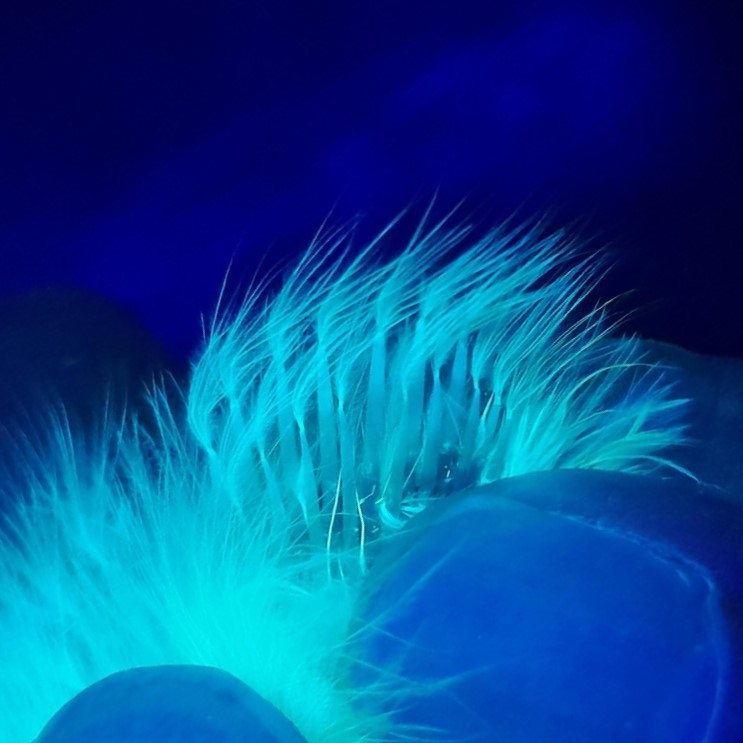female: (210, 299, 552, 609)
